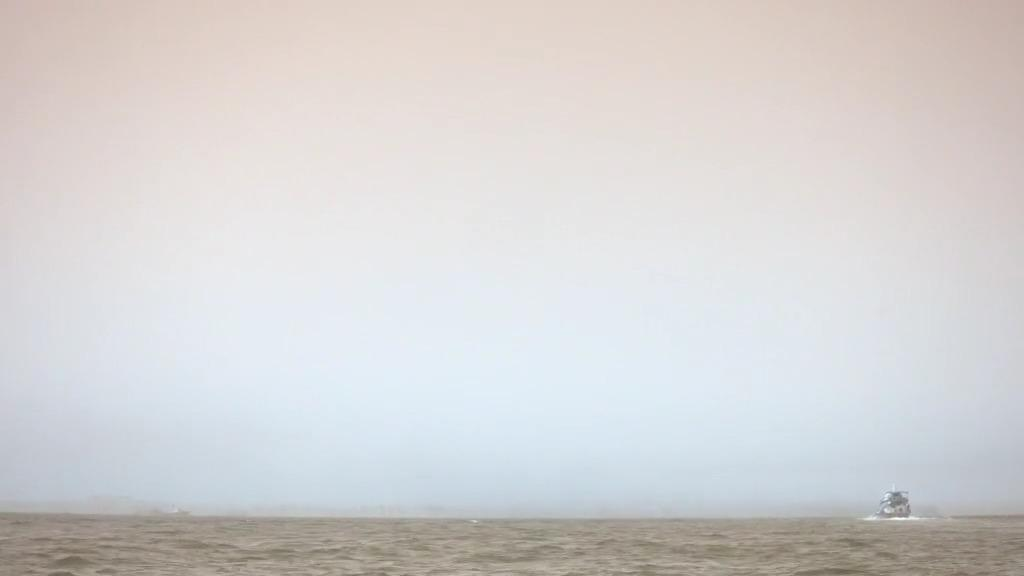PassengerShip: (876, 484, 920, 522)
